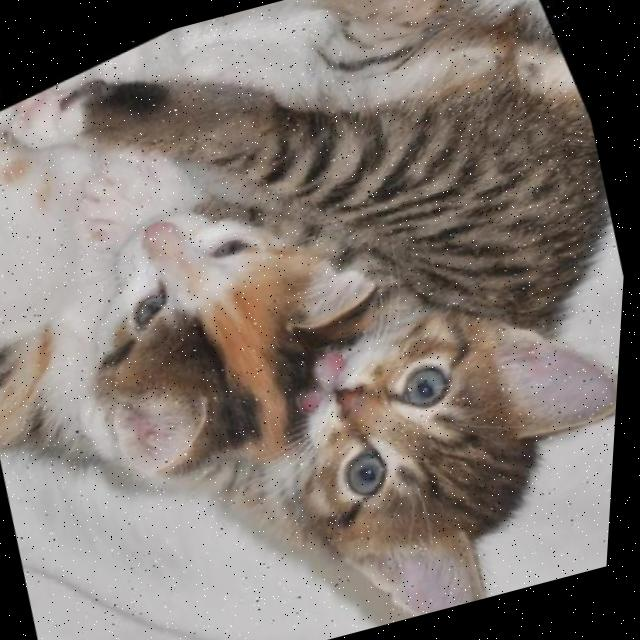Cats: (18, 0, 640, 640), (0, 0, 461, 568)
